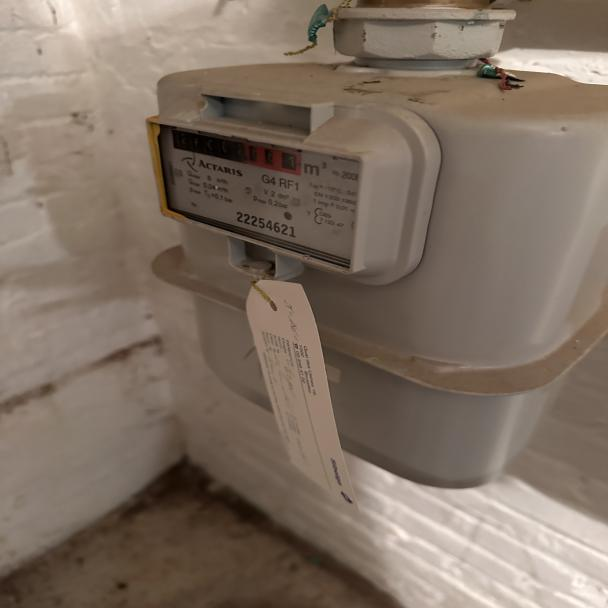0: (204, 134, 220, 156), (220, 138, 235, 160)
2: (175, 130, 192, 152), (232, 139, 246, 163)
6: (189, 133, 204, 154)
cm: (246, 143, 310, 174)
counter: (168, 126, 251, 165)
